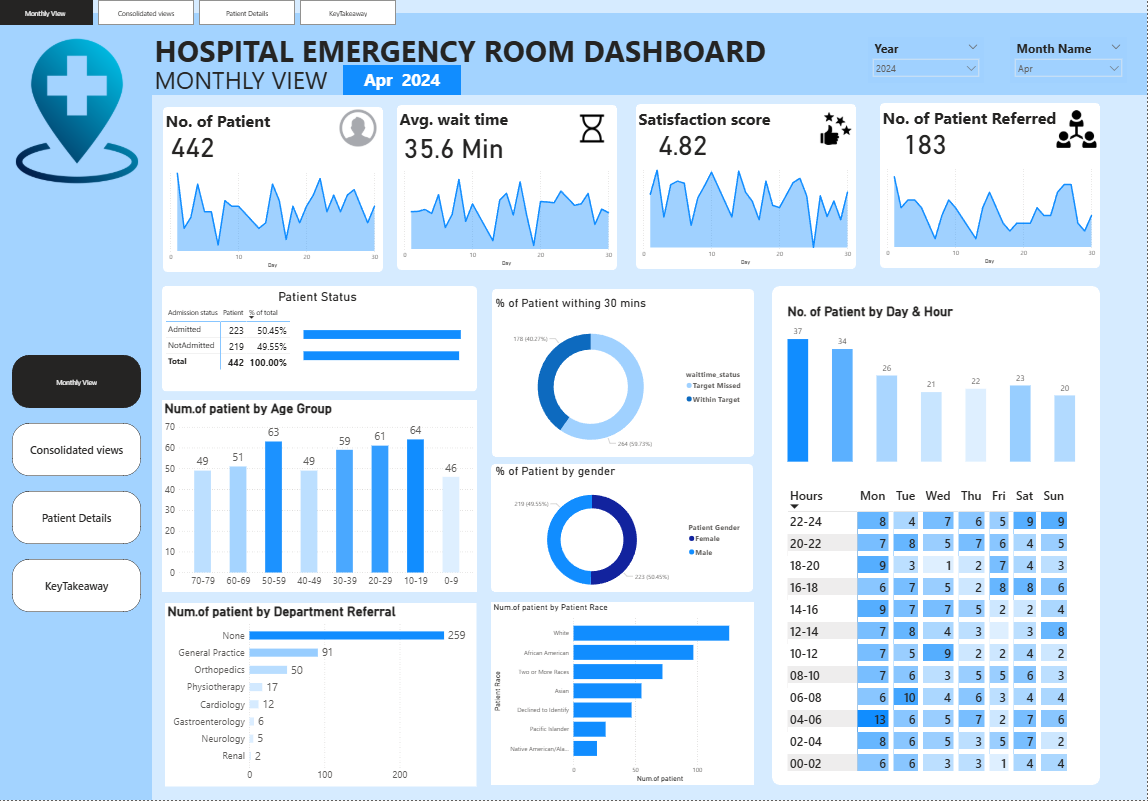

What the dashboard file says about the page in this screenshot:
{"tool":"powerbi","page":{"name":"Monthly VIew","canvas":[2300,1600],"ordinal":0},"visuals":[{"type":"shape","box":[0,26,310,1574],"z":0},{"type":"shape","box":[310,26,1990,164],"z":1000},{"type":"textbox","box":[310,56,1364,108],"z":2000},{"type":"textbox","box":[310,120,480,84],"z":3000},{"type":"slicer","fields":{"Values":["Date Table.Year"]},"box":[1742,74,232,92],"z":4000},{"type":"slicer","fields":{"Values":["Date Table.Month Name"]},"box":[2026,74,234,92],"z":5000},{"type":"shape","box":[332,214,440,330],"z":6000},{"type":"textbox","box":[332.1,215,305.9,61.2],"z":7000},{"type":"card","fields":{"Values":["Hospital ER_Data.Num.of patient"]},"box":[298.9,246.4,187,85.6],"z":8000},{"type":"areaChart","fields":{"Y":["Hospital ER_Data.Num.of patient"],"Category":["Date Table.Date.Variation.Date Hierarchy.Day"]},"box":[332,332,438,208],"z":9000},{"type":"card","fields":{"Values":["Min(Date Table.Month & Year)"]},"box":[692,130,236,60],"z":10000},{"type":"shape","box":[800,210,440,330],"z":11000},{"type":"textbox","box":[800.1,211,305.9,61.2],"z":12000},{"type":"card","fields":{"Values":["Hospital ER_Data.Avg Wait Time"]},"box":[805,247.5,215,85],"z":13000},{"type":"areaChart","fields":{"Category":["Date Table.Date.Variation.Date Hierarchy.Day"],"Y":["Avg(Hospital ER_Data.Patient Waittime)"]},"box":[800,328,438,208],"z":14000},{"type":"shape","box":[1278,208,440,330],"z":15000},{"type":"textbox","box":[1277.5,210,417.5,60],"z":16000},{"type":"card","fields":{"Values":["Hospital ER_Data.Satisfaction Score"]},"box":[1277.5,242.5,187.5,85],"z":17000},{"type":"areaChart","fields":{"Category":["Date Table.Date.Variation.Date Hierarchy.Day"],"Y":["Hospital ER_Data.Satisfaction Score"]},"box":[1278,326,438,208],"z":18000},{"type":"shape","box":[1766,206,440,330],"z":19000},{"type":"textbox","box":[1765,207.5,400,60],"z":20000},{"type":"card","fields":{"Values":["Hospital ER_Data.No. of Patient Referred"]},"box":[1762.5,237.5,187.5,87.5],"z":21000},{"type":"shape","box":[330,572.2,630,211.1],"z":22000},{"type":"areaChart","fields":{"Category":["Date Table.Date.Variation.Date Hierarchy.Day"],"Y":["Hospital ER_Data.No. of Patient Referred"]},"box":[1766,324,438,208],"z":23000},{"type":"pivotTable","title":"Patient Status","fields":{"Rows":["Hospital ER_Data.Admission status"],"Values":["Hospital ER_Data.Num.of patient1","Hospital ER_Data.Num.of patient"]},"box":[332,578,618,192],"z":24000},{"type":"barChart","fields":{"Category":["Hospital ER_Data.Admission status"],"Y":["Hospital ER_Data.No. of Patient Referred"]},"box":[608,626,352,124],"z":25000},{"type":"clusteredColumnChart","fields":{"Category":["Hospital ER_Data.Age Group"],"Y":["Hospital ER_Data.Num.of patient"]},"box":[330,800,630,384],"z":26000},{"type":"clusteredBarChart","fields":{"Y":["Hospital ER_Data.Num.of patient"],"Category":["Hospital ER_Data.Department Referral"]},"box":[336.7,1205,623.3,366.7],"z":27000},{"type":"shape","box":[990,578,524,336],"z":28000},{"type":"donutChart","title":"% of Patient withing 30 mins","fields":{"Y":["Hospital ER_Data.Num.of patient"],"Category":["Hospital ER_Data.waittime_status"]},"box":[992,592,522,336],"z":29000},{"type":"shape","box":[988,928,524,256],"z":30000},{"type":"donutChart","title":"% of Patient by gender","fields":{"Y":["Hospital ER_Data.Num.of patient"],"Category":["Hospital ER_Data.Patient Gender"]},"box":[992,928,522,276],"z":31000},{"type":"clusteredBarChart","fields":{"Y":["Hospital ER_Data.Num.of patient"],"Category":["Hospital ER_Data.Patient Race"]},"box":[988,1204,526,366],"z":32000},{"type":"shape","box":[1550,572,656,998],"z":33000},{"type":"pivotTable","fields":{"Rows":["Hospital ER_Data.Waittime Interval"],"Columns":["Date Table.Day Name"],"Values":["Hospital ER_Data.Num.of patient"]},"box":[1576,968,604,584],"z":34000},{"type":"columnChart","title":"No. of Patient by Day & Hour","fields":{"Category":["Date Table.Day Name"],"Y":["Hospital ER_Data.No. of Patient Referred"]},"box":[1576.7,605,588.3,323.3],"z":35000},{"type":"image","box":[10,72,300,300],"z":36000},{"type":"image","box":[674,214,96,84],"z":37000},{"type":"image","box":[1150,224,80,66],"z":38000},{"type":"image","box":[1638,216,80,82],"z":39000},{"type":"image","box":[2114,212,90,92],"z":40000},{"type":"pageNavigator","box":[0,0,800,50],"z":40001},{"type":"pageNavigator","box":[30,710,258,514],"z":40002}]}

Visuals, with their boxes on the page's 2300x1600 design canvas (x1, y1, x2, y2). These are canvas units, not pixel positions in the 1148x801 screenshot, which may show the page scaled, cropped or inside an application window:
shape: crop(0, 26, 310, 1600)
shape: crop(310, 26, 2300, 190)
textbox: crop(310, 56, 1674, 164)
textbox: crop(310, 120, 790, 204)
slicer - Date Table.Year: crop(1742, 74, 1974, 166)
slicer - Date Table.Month Name: crop(2026, 74, 2260, 166)
shape: crop(332, 214, 772, 544)
textbox: crop(332, 215, 638, 276)
card - Hospital ER_Data.Num.of patient: crop(299, 246, 486, 332)
areaChart - Hospital ER_Data.Num.of patient x Date Table.Date.Variation.Date Hierarchy.Day: crop(332, 332, 770, 540)
card - Min(Date Table.Month & Year): crop(692, 130, 928, 190)
shape: crop(800, 210, 1240, 540)
textbox: crop(800, 211, 1106, 272)
card - Hospital ER_Data.Avg Wait Time: crop(805, 248, 1020, 332)
areaChart - Date Table.Date.Variation.Date Hierarchy.Day x Avg(Hospital ER_Data.Patient Waittime): crop(800, 328, 1238, 536)
shape: crop(1278, 208, 1718, 538)
textbox: crop(1278, 210, 1695, 270)
card - Hospital ER_Data.Satisfaction Score: crop(1278, 242, 1465, 328)
areaChart - Date Table.Date.Variation.Date Hierarchy.Day x Hospital ER_Data.Satisfaction Score: crop(1278, 326, 1716, 534)
shape: crop(1766, 206, 2206, 536)
textbox: crop(1765, 208, 2165, 268)
card - Hospital ER_Data.No. of Patient Referred: crop(1762, 238, 1950, 325)
shape: crop(330, 572, 960, 783)
areaChart - Date Table.Date.Variation.Date Hierarchy.Day x Hospital ER_Data.No. of Patient Referred: crop(1766, 324, 2204, 532)
"Patient Status" pivotTable: crop(332, 578, 950, 770)
barChart - Hospital ER_Data.Admission status x Hospital ER_Data.No. of Patient Referred: crop(608, 626, 960, 750)
clusteredColumnChart - Hospital ER_Data.Age Group x Hospital ER_Data.Num.of patient: crop(330, 800, 960, 1184)
clusteredBarChart - Hospital ER_Data.Num.of patient x Hospital ER_Data.Department Referral: crop(337, 1205, 960, 1572)
shape: crop(990, 578, 1514, 914)
"% of Patient withing 30 mins" donutChart: crop(992, 592, 1514, 928)
shape: crop(988, 928, 1512, 1184)
"% of Patient by gender" donutChart: crop(992, 928, 1514, 1204)
clusteredBarChart - Hospital ER_Data.Num.of patient x Hospital ER_Data.Patient Race: crop(988, 1204, 1514, 1570)
shape: crop(1550, 572, 2206, 1570)
pivotTable - Hospital ER_Data.Waittime Interval x Date Table.Day Name: crop(1576, 968, 2180, 1552)
"No. of Patient by Day & Hour" columnChart: crop(1577, 605, 2165, 928)
image: crop(10, 72, 310, 372)
image: crop(674, 214, 770, 298)
image: crop(1150, 224, 1230, 290)
image: crop(1638, 216, 1718, 298)
image: crop(2114, 212, 2204, 304)
pageNavigator: crop(0, 0, 800, 50)
pageNavigator: crop(30, 710, 288, 1224)
